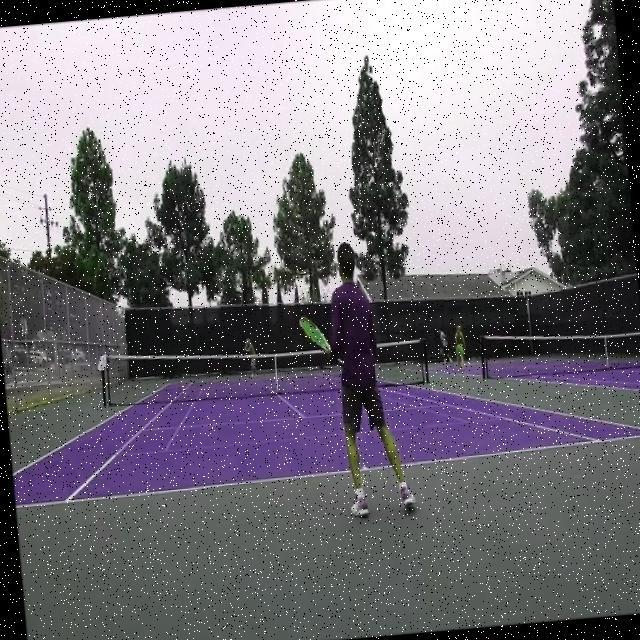court: (5, 342, 640, 507)
player: (292, 237, 417, 522)
